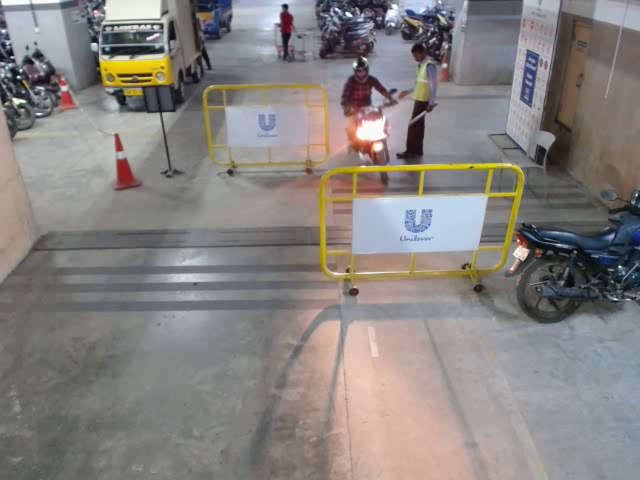with_helmet: (353, 55, 371, 84)
